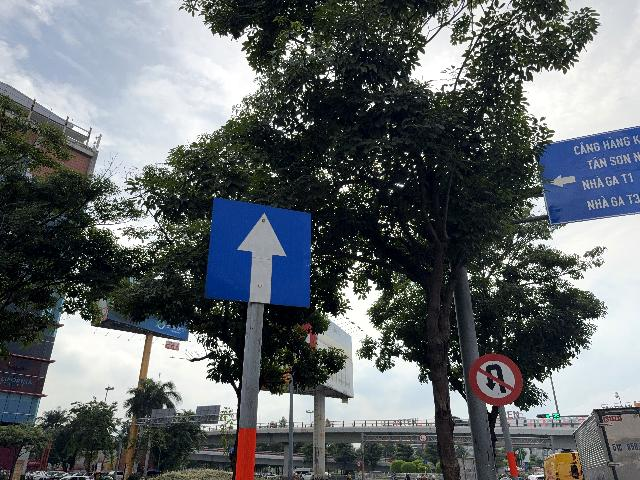cam-quay-dau-xe: (469, 353, 523, 406)
duong-mot-chieu: (204, 197, 311, 307)
